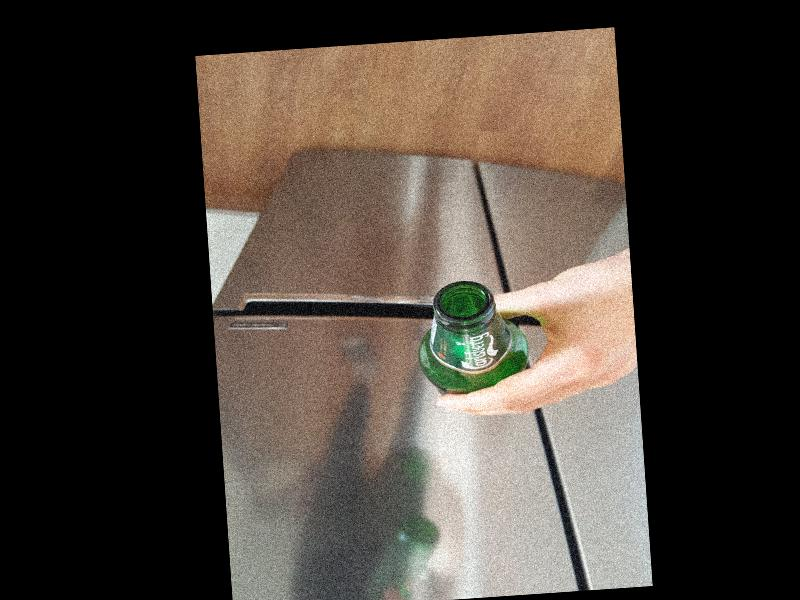Beer: (414, 276, 528, 397)
